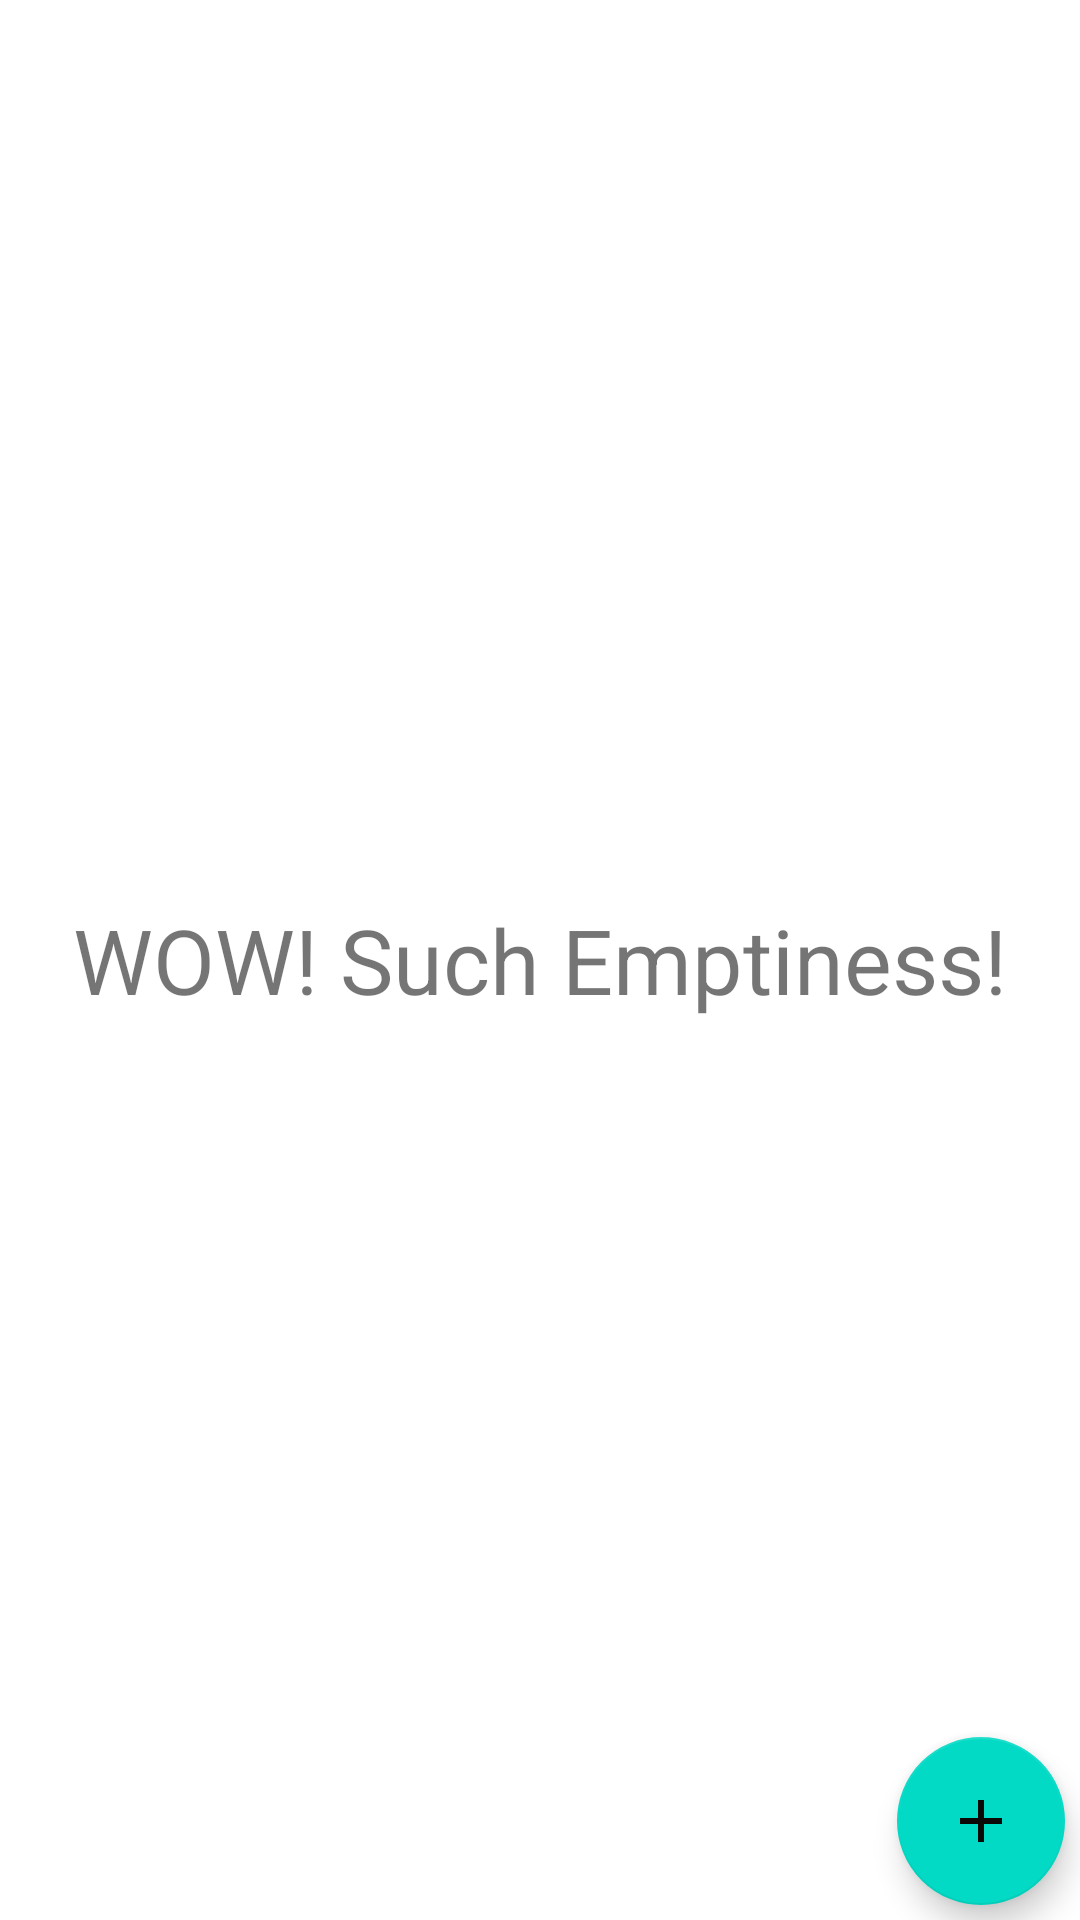

Icon bounding boxes for this 1080×1920 phone screenshot, format [x1, y1, x2, y2]:
add: [897, 1737, 1065, 1905]
